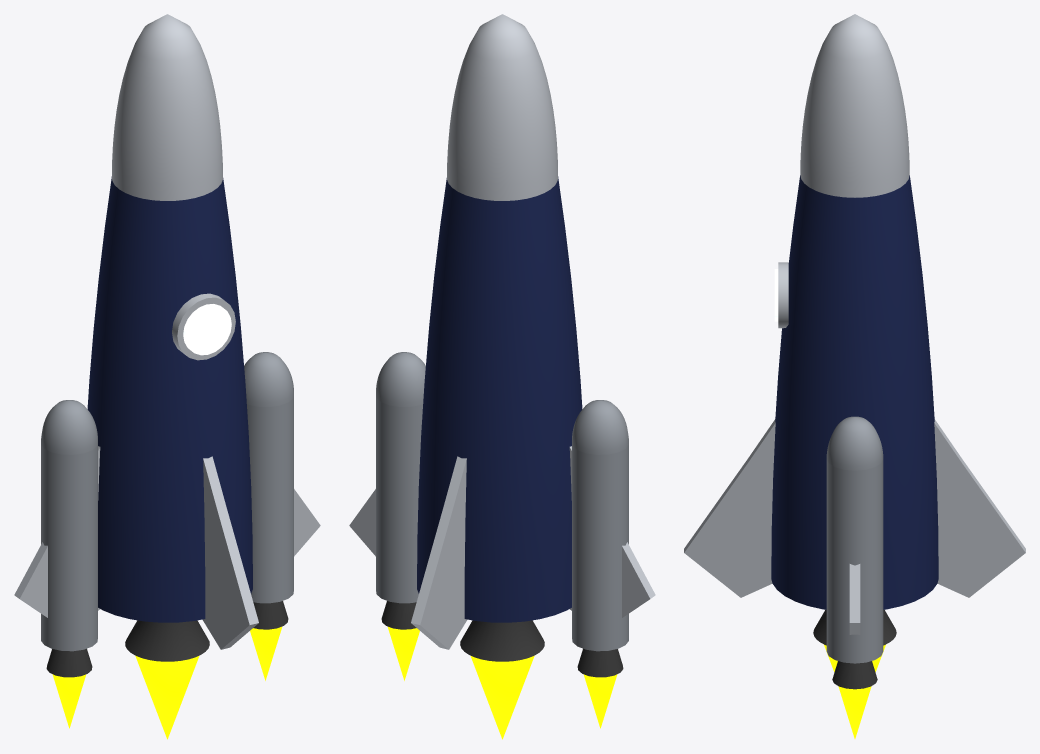
The model's file is Rocket_08_NavySleek.fbx.
The picture shows the model from 3 angles, left to right: view 1: azimuth 30°, elevation 25°; view 2: azimuth 150°, elevation 25°; view 3: azimuth 270°, elevation 25°; orthographic projection.
Visible parts, largest first — view 1: R08_Body, R08_Nose, R08_Booster_2, R08_Booster_1, R08_Fin_3, R08_Nozzle_1, R08_BoosterNose_2, R08_Flame_1, R08_BoosterNose_1, R08_Window_1, R08_Fin_2, R08_WindowFrame_1 (+5 smaller); view 2: R08_Body, R08_Nose, R08_Booster_2, R08_Booster_1, R08_Fin_1, R08_Nozzle_1, R08_BoosterNose_2, R08_Flame_1, R08_BoosterNose_1, R08_Fin_2, R08_BoosterNozzle_2, R08_Fin_4 (+3 smaller); view 3: R08_Body, R08_Nose, R08_Booster_1, R08_Fin_1, R08_Fin_3, R08_BoosterNose_1, R08_BoosterNozzle_1, R08_BoosterFlame_1, R08_Fin_4, R08_WindowFrame_1, R08_Nozzle_1.
Boxes of the visible parts, box(x1,y1,x2,y2) form: R08_Body: box(87, 176, 252, 622); R08_Nose: box(112, 14, 222, 200); R08_Booster_2: box(41, 443, 97, 651); R08_Booster_1: box(247, 396, 293, 603); R08_Fin_3: box(202, 456, 258, 649); R08_Nozzle_1: box(125, 620, 209, 661); R08_BoosterNose_2: box(41, 400, 97, 454); R08_Flame_1: box(135, 655, 199, 739); R08_BoosterNose_1: box(244, 352, 293, 406); R08_Window_1: box(183, 304, 231, 355); R08_Fin_2: box(14, 446, 100, 617); R08_WindowFrame_1: box(172, 293, 235, 360); R08_Body: box(417, 176, 582, 622); R08_Nose: box(447, 14, 557, 200); R08_Booster_2: box(572, 443, 628, 651); R08_Booster_1: box(376, 396, 422, 603); R08_Fin_1: box(411, 456, 467, 649); R08_Nozzle_1: box(460, 620, 544, 661); R08_BoosterNose_2: box(572, 400, 628, 454); R08_Flame_1: box(470, 655, 534, 739); R08_BoosterNose_1: box(376, 352, 425, 406); R08_Fin_2: box(569, 446, 655, 617); R08_BoosterNozzle_2: box(577, 648, 623, 677); R08_Fin_4: box(349, 489, 375, 556); R08_Body: box(771, 175, 938, 609); R08_Nose: box(800, 14, 909, 197); R08_Booster_1: box(826, 459, 883, 663); R08_Fin_1: box(934, 419, 1025, 597); R08_Fin_3: box(684, 419, 775, 597); R08_BoosterNose_1: box(826, 416, 883, 470); R08_BoosterNozzle_1: box(832, 661, 877, 689); R08_BoosterFlame_1: box(838, 686, 871, 738); R08_Fin_4: box(849, 564, 860, 634); R08_WindowFrame_1: box(778, 262, 788, 328); R08_Nozzle_1: box(813, 609, 896, 645).
Bounding box in the file's own units: 3.85 × 8.87 × 3.85.
